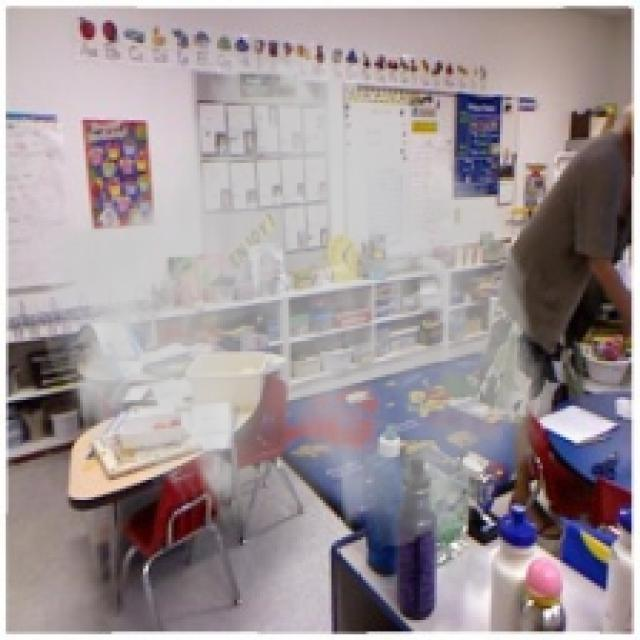Smoke: (37, 22, 554, 552)
